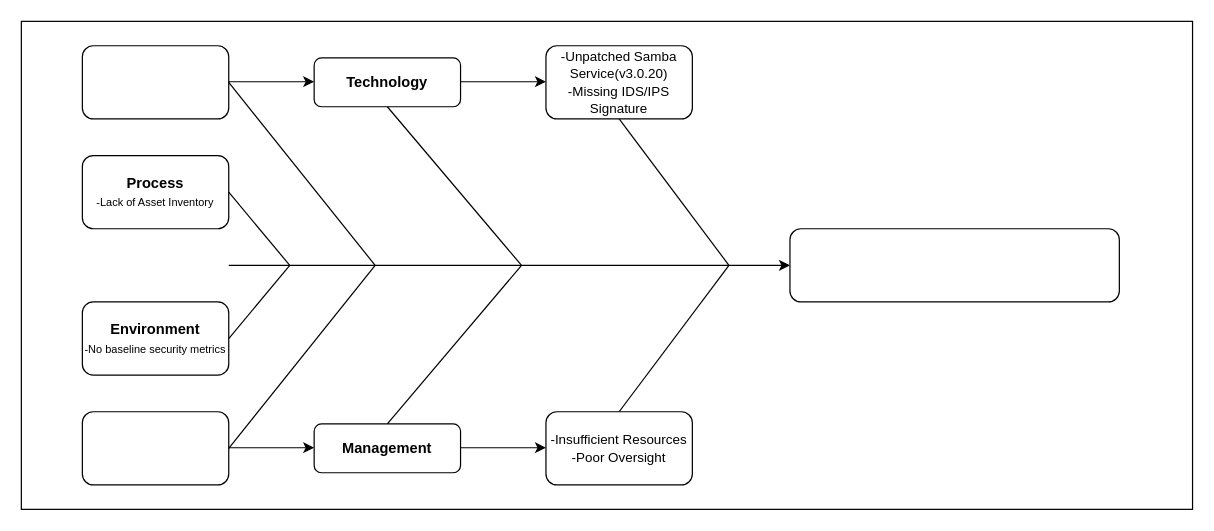
The diagram is 1214 pixels wide and 531 high, and some of its shapes have lost their labels. The box of each missing label's shape, as (x1, y1, x2, y2) in pixels:
Effect: Unauthorized Access and Code Execution via Samba Exploit: (789, 228, 1119, 302)
Environment -Metasploitable2: (81, 411, 229, 485)
People -Misconfiguration by Admin: (81, 45, 229, 119)
